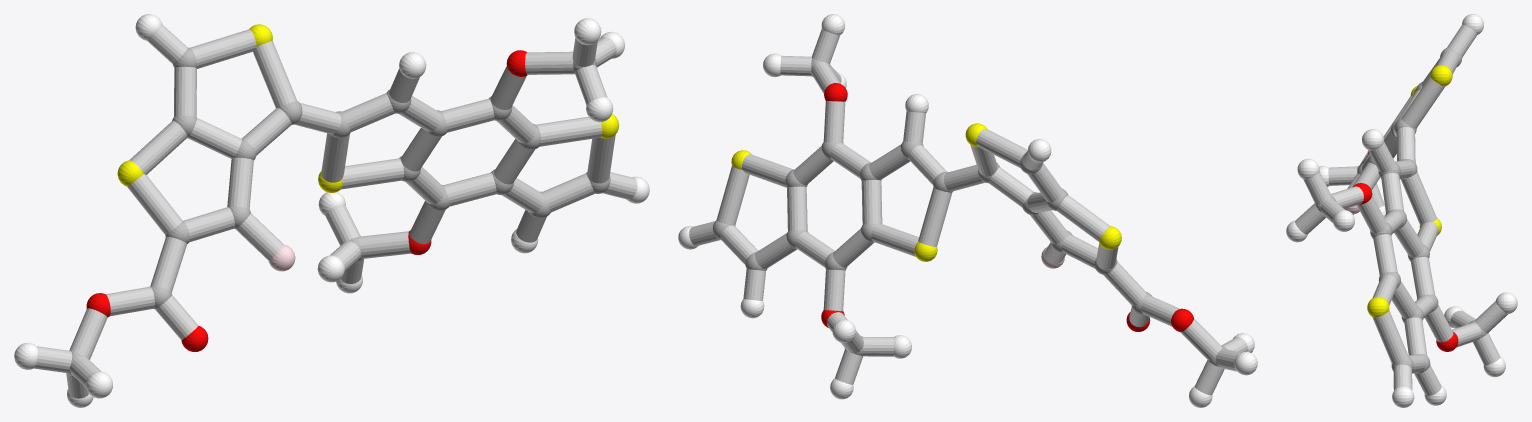
The model's file is color.glb.
3 views of the same model, side by side, from view 1: azimuth 30°, elevation 25°; view 2: azimuth 150°, elevation 25°; view 3: azimuth 270°, elevation 25° (orthographic). The views are drawn at different scales.
Visible parts, largest first — view 1: grp15205, grp8689, grp1, grp13395, grp7241; view 2: grp15205, grp8689, grp1, grp7241, grp13395; view 3: grp15205, grp8689, grp1, grp7241, grp13395.
Part boxes in pixels (<box>): grp15205: <box>34,24,637,398</box>; grp8689: <box>14,14,649,407</box>; grp1: <box>68,47,610,375</box>; grp13395: <box>86,50,527,351</box>; grp7241: <box>117,24,619,192</box>; grp15205: <box>689,29,1247,395</box>; grp8689: <box>678,14,1257,407</box>; grp1: <box>713,58,1227,366</box>; grp7241: <box>731,123,1121,261</box>; grp13395: <box>821,83,1193,331</box>; grp15205: <box>1295,24,1507,395</box>; grp8689: <box>1286,14,1517,407</box>; grp1: <box>1315,47,1487,373</box>; grp7241: <box>1367,65,1452,317</box>; grp13395: <box>1353,152,1458,351</box>.
Bounding box in the file's own units: 16.46 × 8.24 × 6.26.
